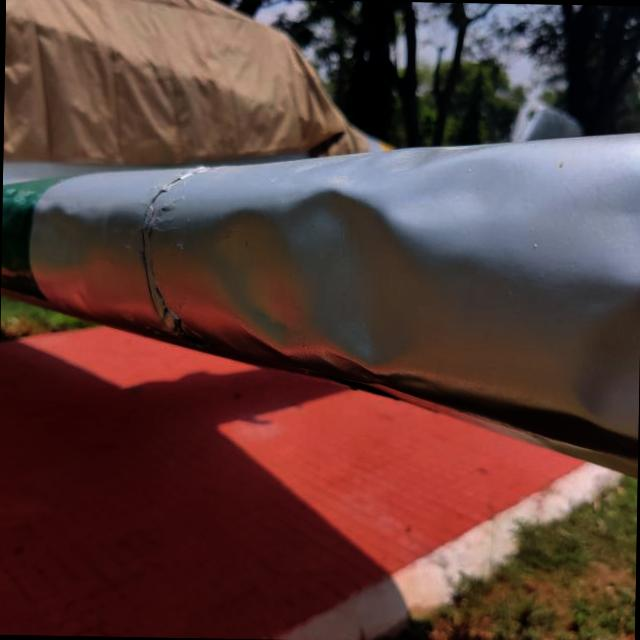dent: (184, 160, 476, 398), (529, 265, 640, 435)
